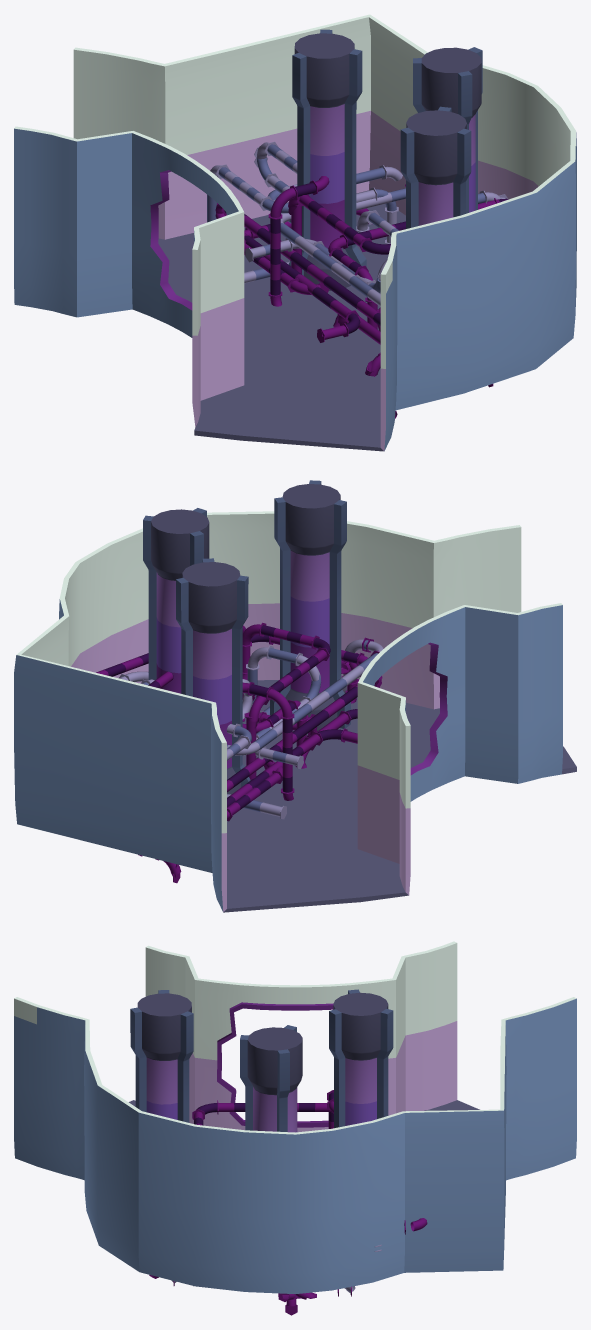
The model's file is Pipes_room_Base.fbx.
3 views of the same model, one above another, from view 1: azimuth 30°, elevation 25°; view 2: azimuth 150°, elevation 25°; view 3: azimuth 270°, elevation 25° (orthographic). The views are drawn at different scales.
Visible parts, largest first — view 1: Pipes_room; view 2: Pipes_room; view 3: Pipes_room.
Part boxes in pixels (box(x1,y1,x2,y2)): Pipes_room: box(14, 14, 576, 451); Pipes_room: box(14, 480, 576, 912); Pipes_room: box(14, 941, 576, 1315).
Bounding box in the file's own units: 2924 × 1713 × 3600.
